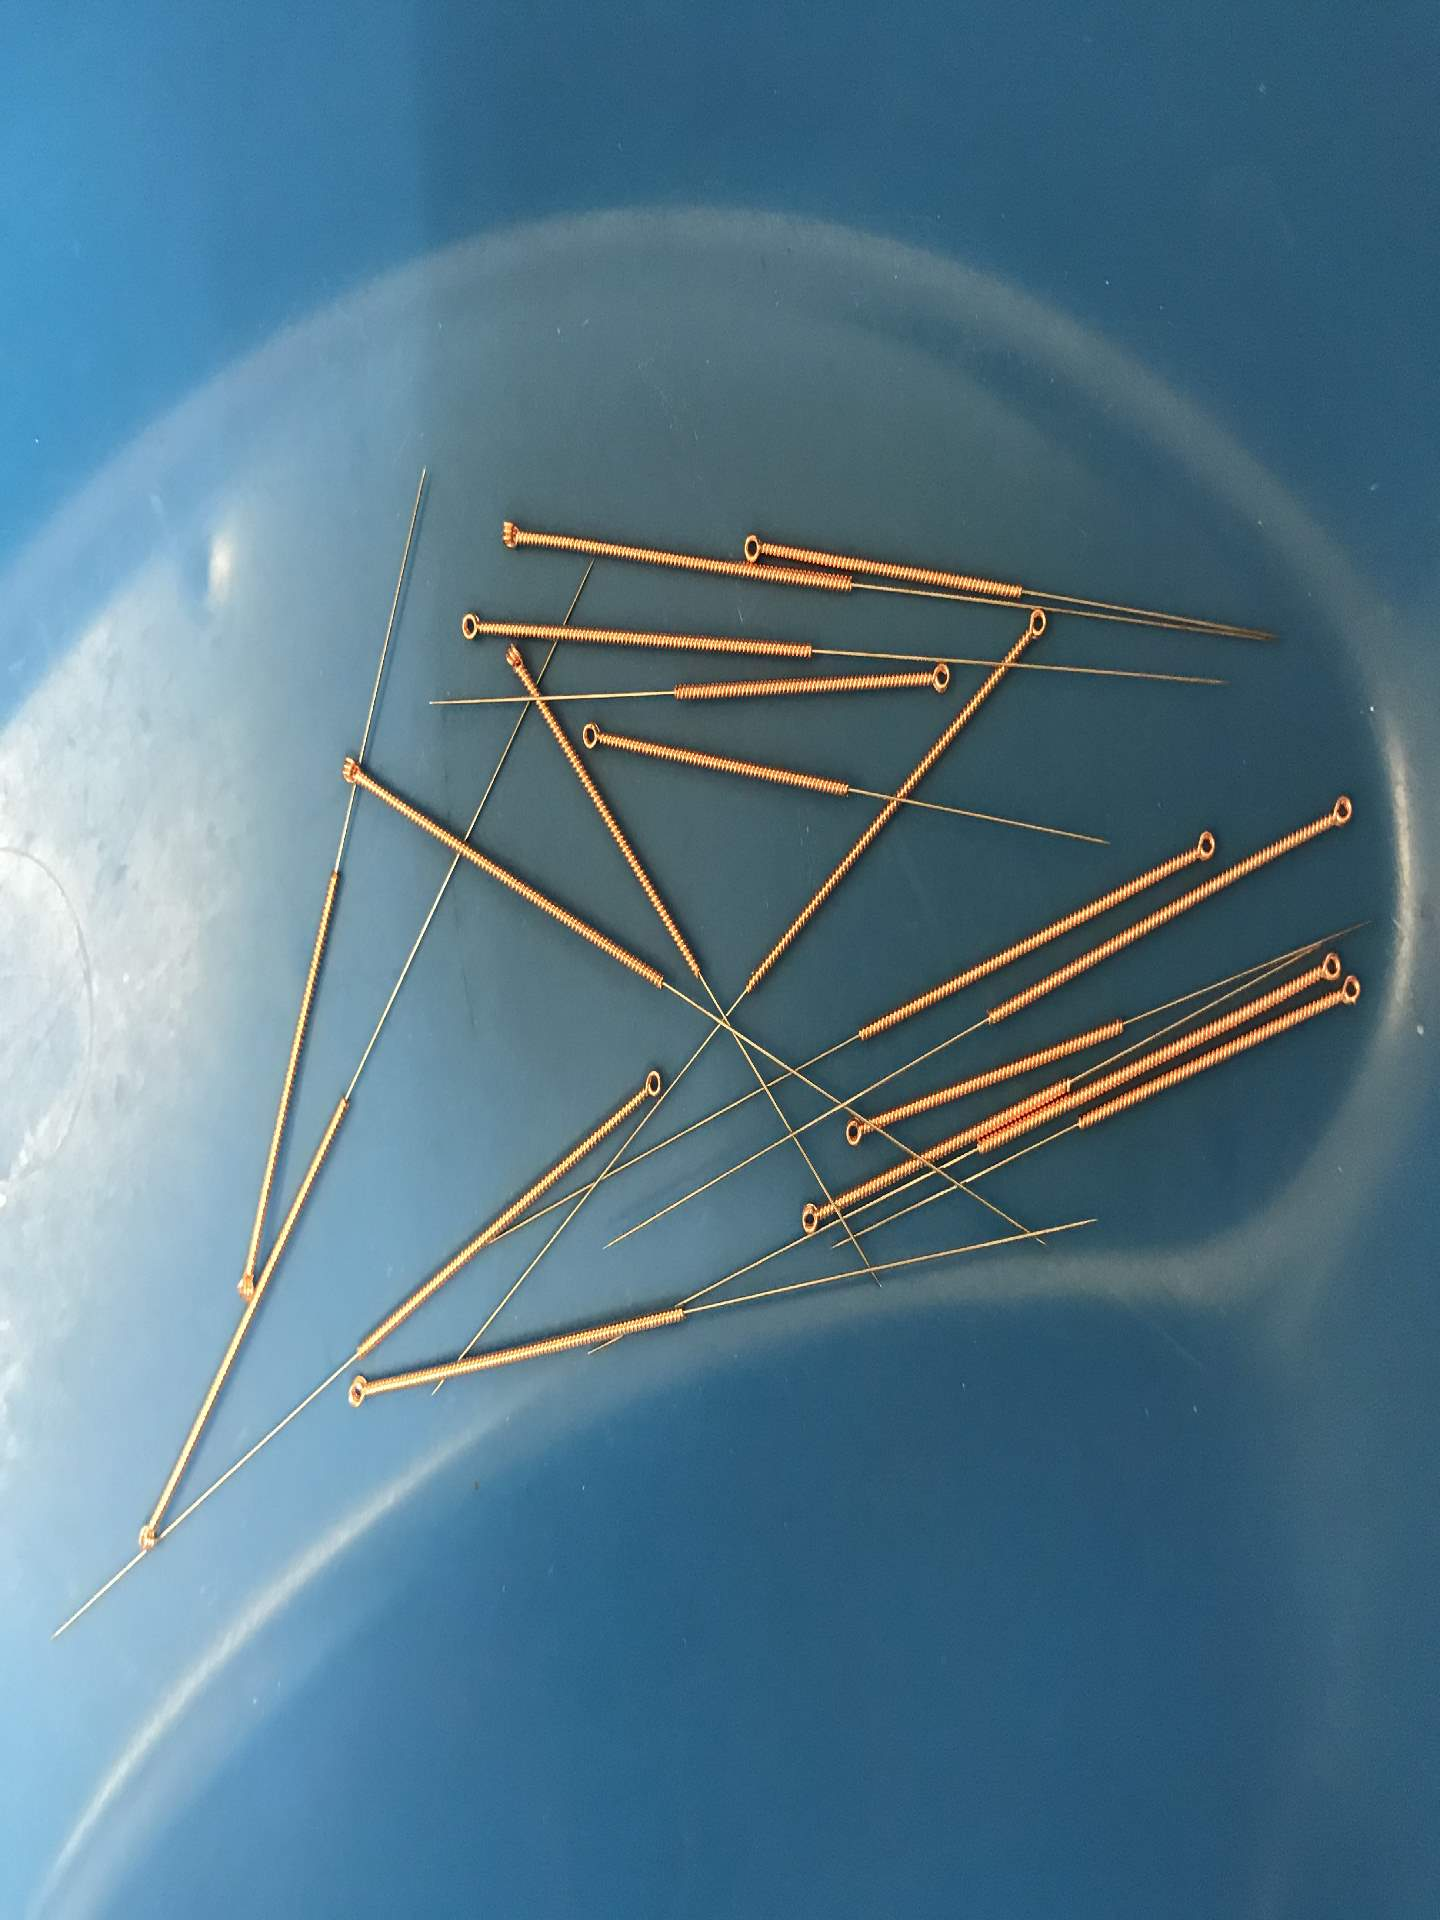needle: (490, 509, 531, 558), (835, 1108, 874, 1157), (791, 1196, 829, 1243), (1184, 822, 1221, 869), (334, 750, 372, 794), (452, 602, 489, 647), (340, 1370, 377, 1415), (135, 1504, 166, 1556), (734, 526, 771, 568), (1016, 605, 1054, 647), (1324, 788, 1358, 833), (920, 658, 956, 698), (575, 715, 610, 757), (1311, 943, 1346, 986), (634, 1061, 669, 1104), (499, 638, 531, 682), (1336, 971, 1367, 1011), (233, 1255, 259, 1305)
